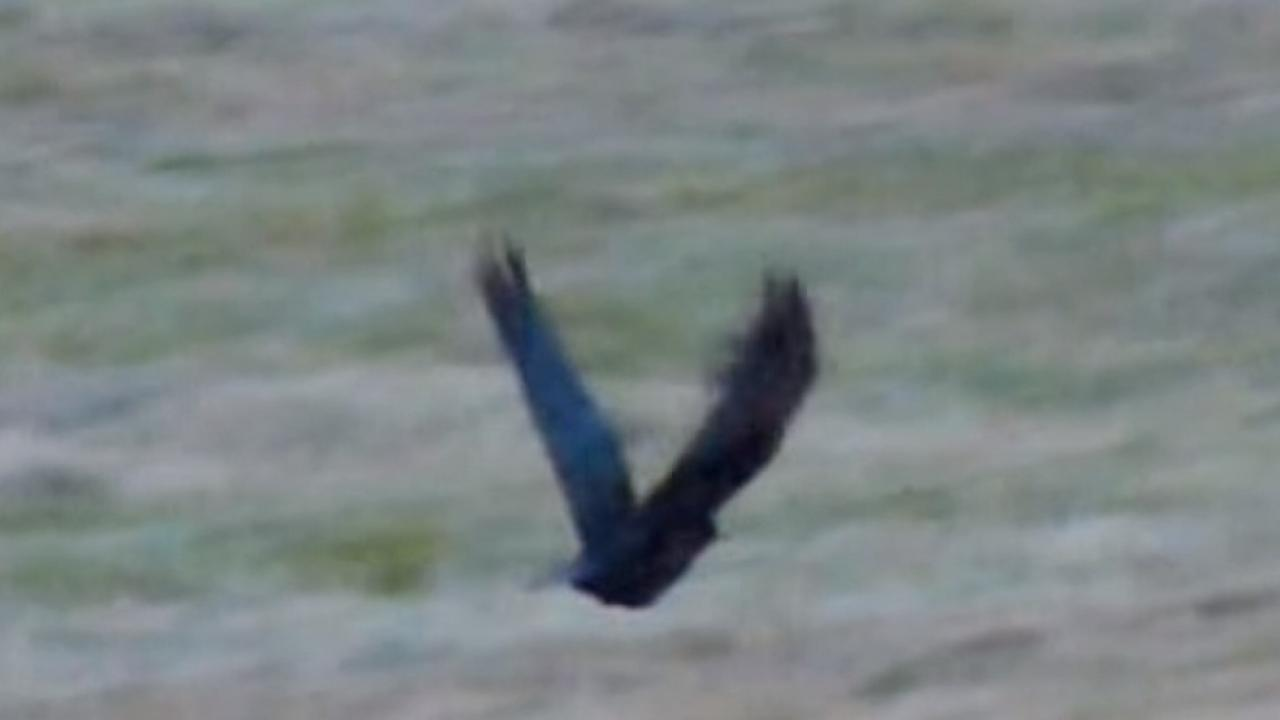Bird: (467, 212, 825, 623)
